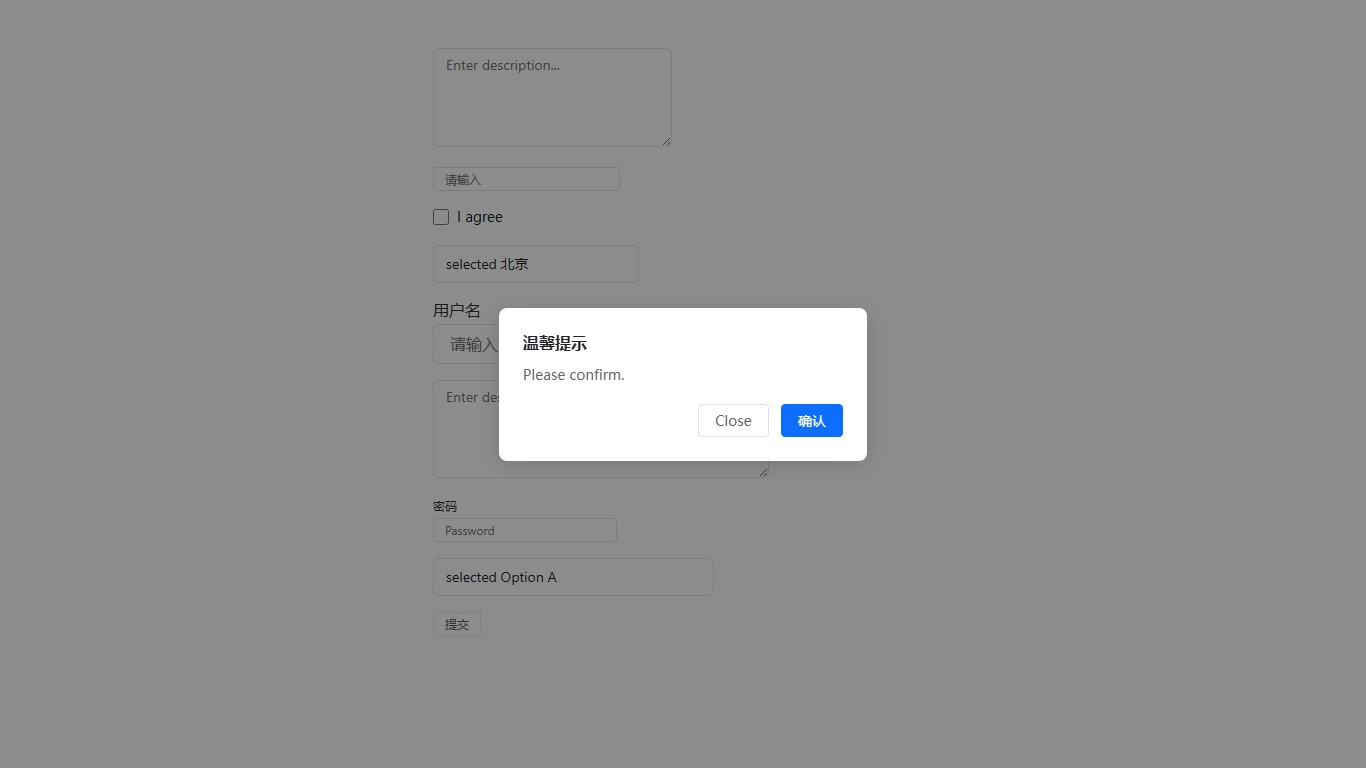button: (698, 403, 769, 437), (781, 403, 843, 437), (433, 612, 481, 636)
checkbox: (433, 209, 449, 224)
icon: (457, 207, 503, 226)
input: (433, 324, 610, 364), (433, 167, 620, 191), (433, 517, 617, 541)
modal: (0, 0, 1366, 768)
radio: (433, 207, 503, 226)
select: (433, 558, 714, 595), (433, 245, 639, 282)
textarea: (433, 380, 769, 478), (433, 48, 672, 147)
